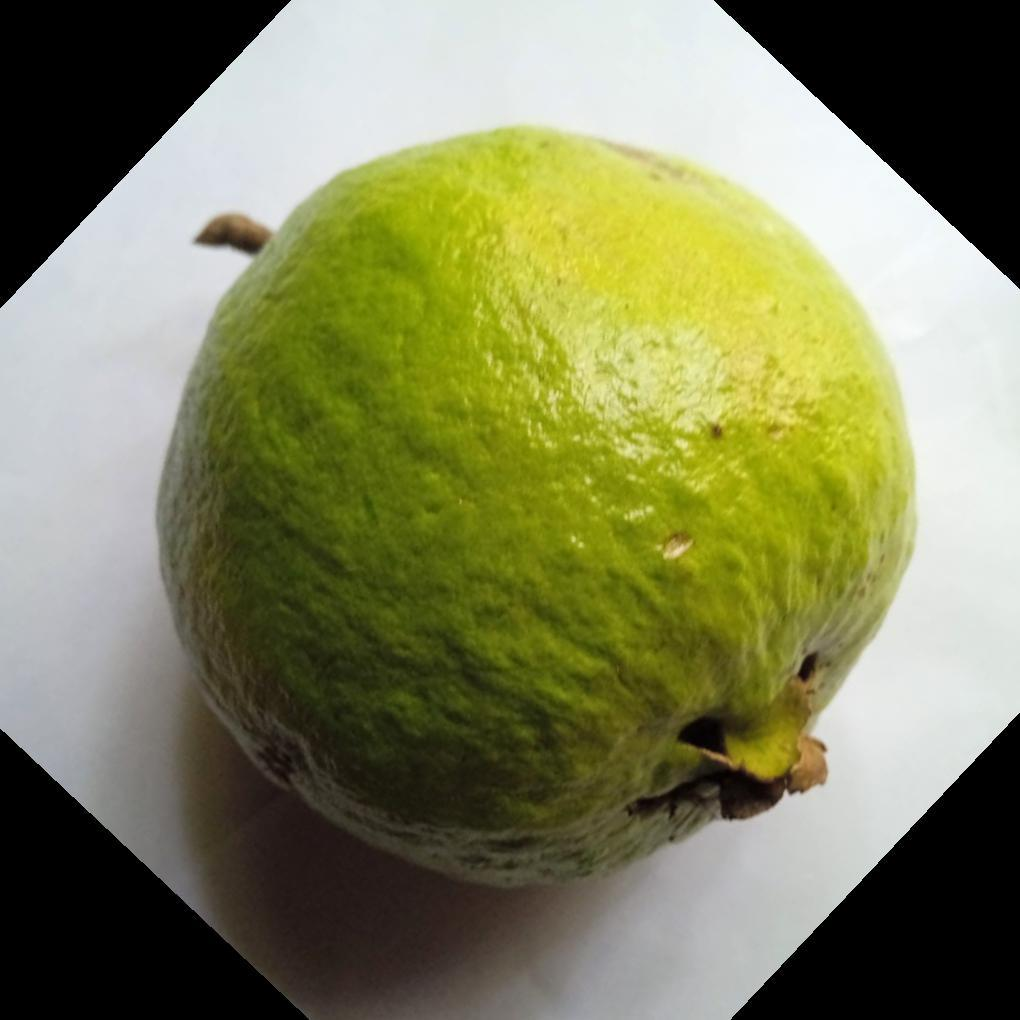FreshGuava: (152, 125, 920, 896)
